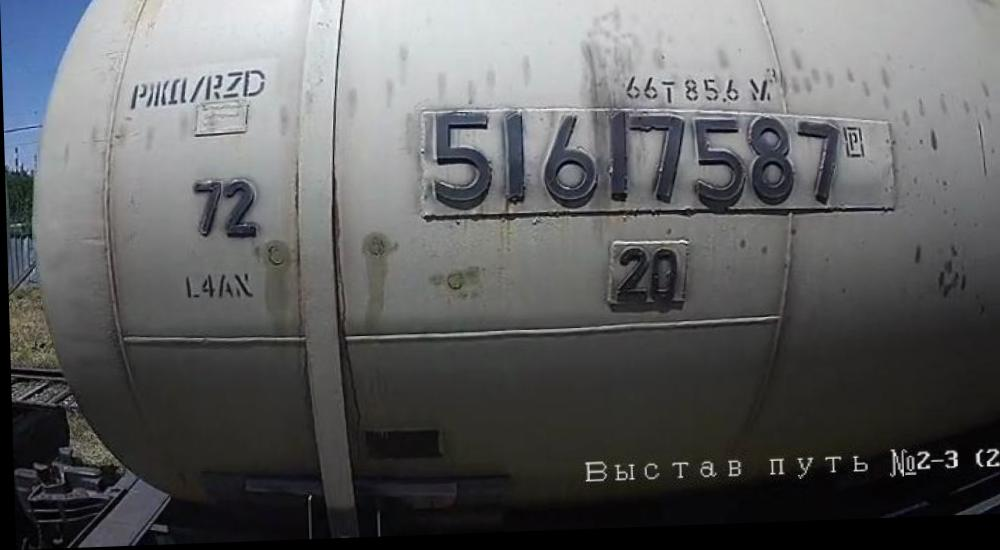Wagon-number: (421, 99, 846, 228)
